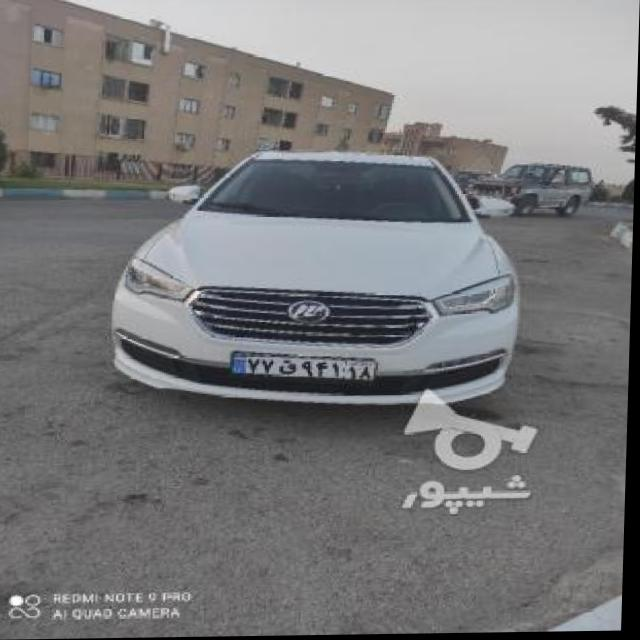licence: (230, 346, 377, 386)
